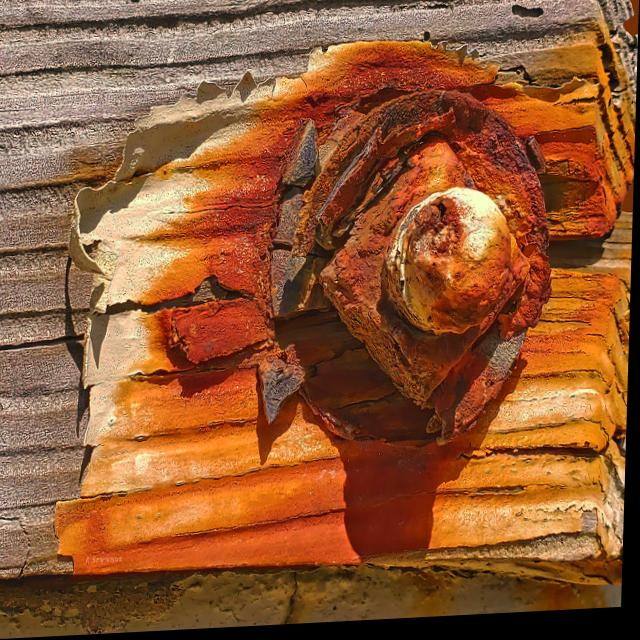Rusty bolt: (335, 157, 525, 394)
